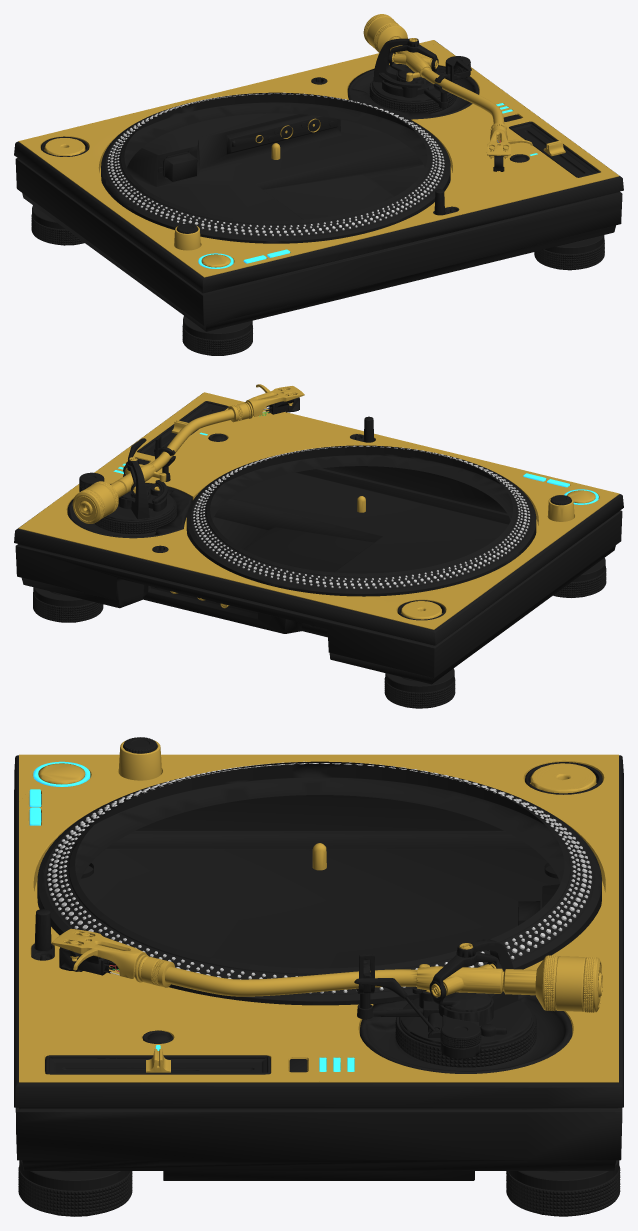
The model's file is deck.glb.
3 renders of one model, top to bottom at view 1: azimuth 30°, elevation 25°; view 2: azimuth 150°, elevation 25°; view 3: azimuth 270°, elevation 25°, orthographic. The views are drawn at different scales.
Visible parts, largest first — view 1: base, platter, arm_pitch, arm_yaw; view 2: base, platter, arm_pitch; view 3: base, platter, arm_pitch, arm_yaw, cue.
Boxes of the visible parts, x1,y1,x2,y2 form: base: (14,38,623,355); platter: (101,92,450,243); arm_pitch: (363,14,532,171); arm_yaw: (388,44,438,80); base: (14,392,623,708); platter: (186,445,536,596); arm_pitch: (72,384,304,523); base: (14,737,623,1216); platter: (37,761,601,1005); arm_pitch: (52,928,602,1012); arm_yaw: (429,952,502,1011); cue: (354,978,438,1030).
Bounding box in the file's own units: 0.4549 × 0.1418 × 0.3529.
